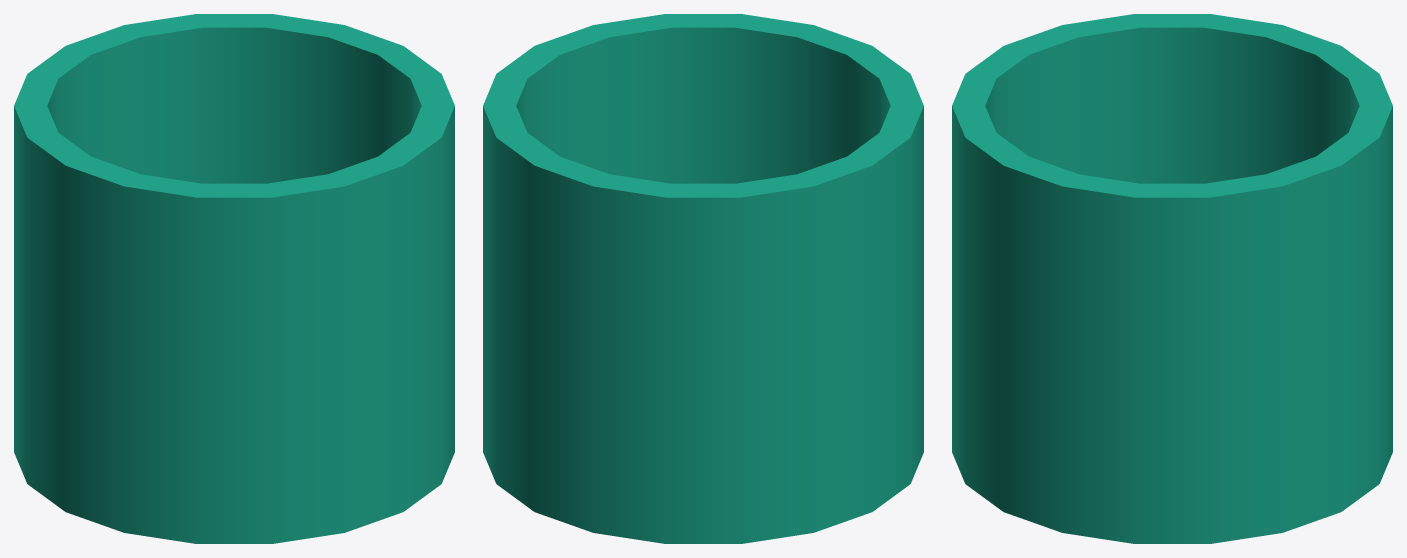
3 renders of one model, left to right at view 1: azimuth 30°, elevation 25°; view 2: azimuth 150°, elevation 25°; view 3: azimuth 270°, elevation 25°, orthographic.
Visible parts, largest first — view 1: Tube01; view 2: Tube01; view 3: Tube01.
Part boxes in pixels (left/top/right/bottom): Tube01: left=14, top=14, right=454, bottom=543; Tube01: left=483, top=14, right=923, bottom=543; Tube01: left=952, top=14, right=1392, bottom=543.
Bounding box in the file's own units: 33.92 × 34.44 × 29.86.
